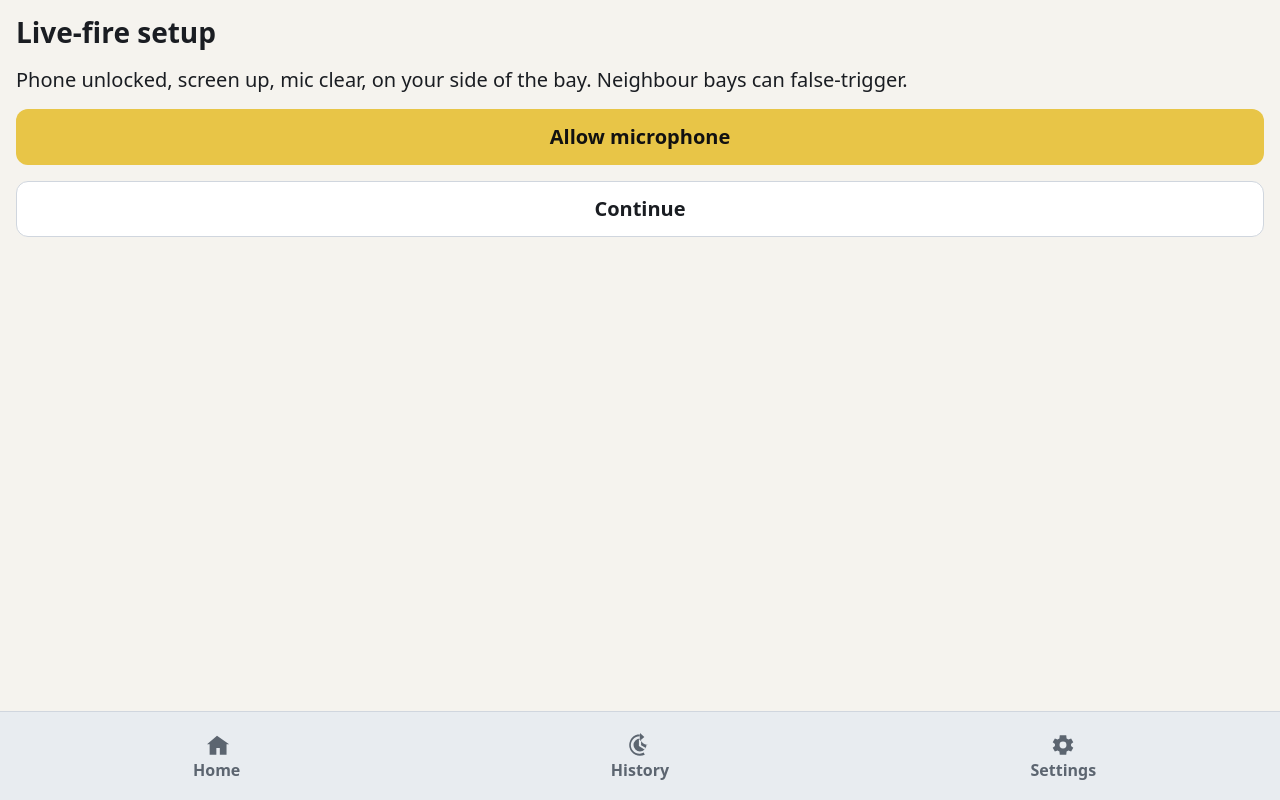
Test: pages › shows a denial message when the microphone is refused
Click the button with test id "grant-mic".
click(640, 137)  # box [16, 109, 1264, 165]
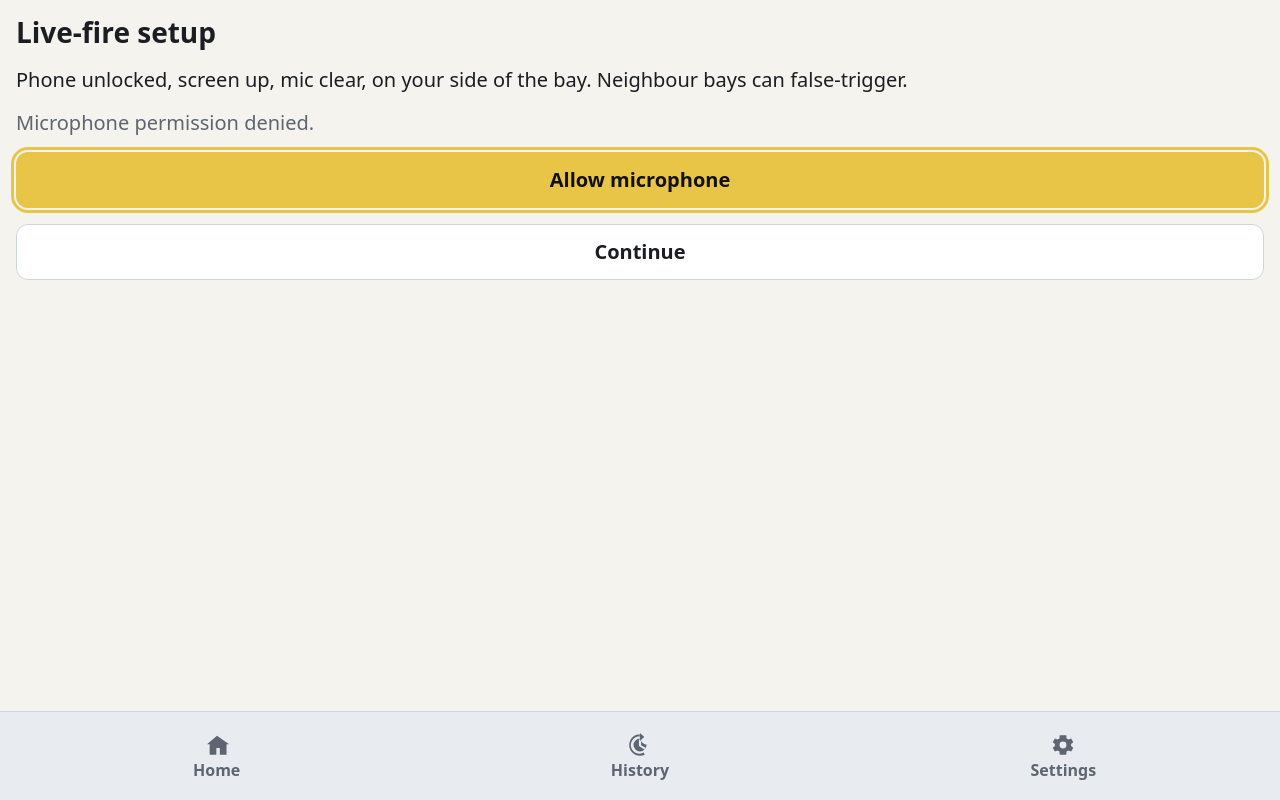
Expected: the text "Microphone permission denied." is shown, [16, 109, 314, 136]
